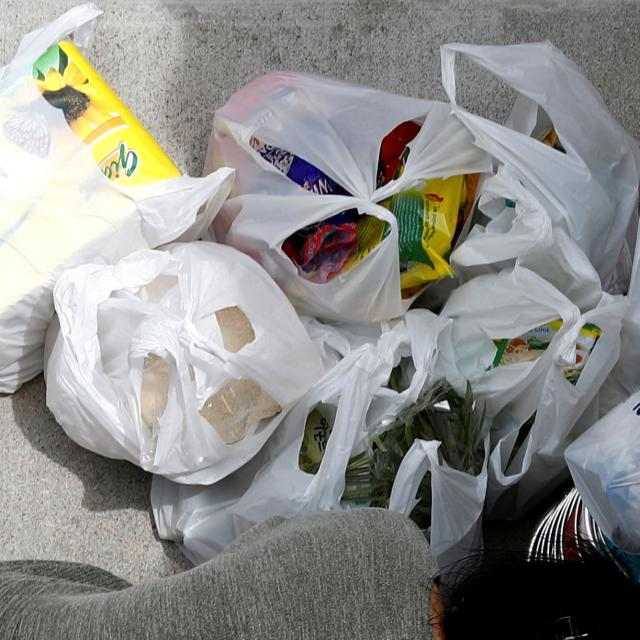Single-layer Plastic: (0, 4, 234, 392), (151, 310, 450, 562), (205, 71, 490, 323), (45, 242, 325, 485), (441, 41, 640, 288), (441, 265, 628, 519), (450, 166, 602, 311)
